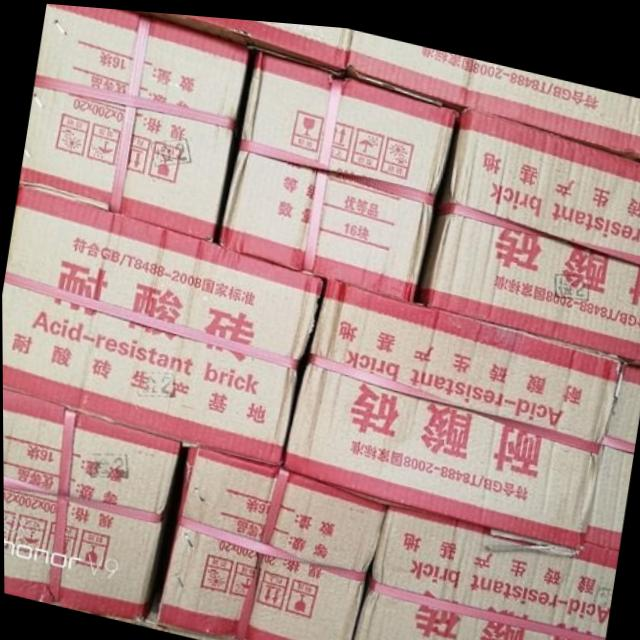box: (282, 271, 622, 538), (2, 184, 323, 463), (220, 46, 459, 294), (415, 98, 640, 351), (19, 3, 249, 239), (154, 439, 385, 640), (2, 388, 178, 618), (346, 24, 640, 151), (352, 500, 618, 640), (137, 9, 351, 68)
